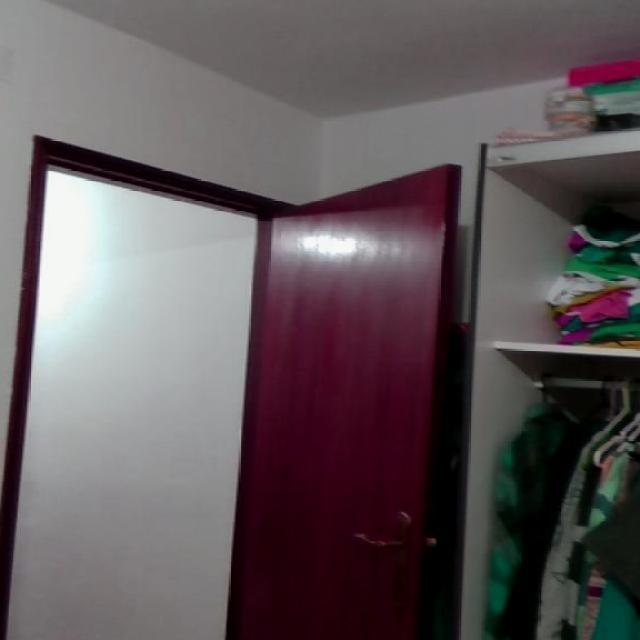door: (202, 133, 482, 640)
